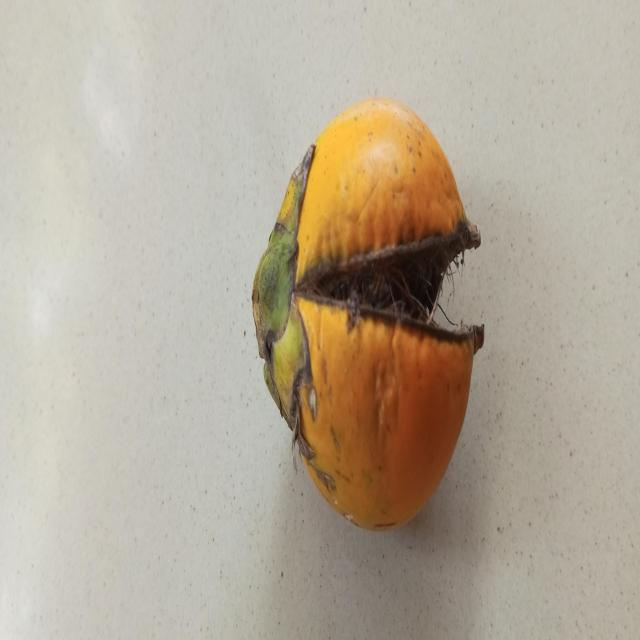damaged: (252, 98, 484, 530)
